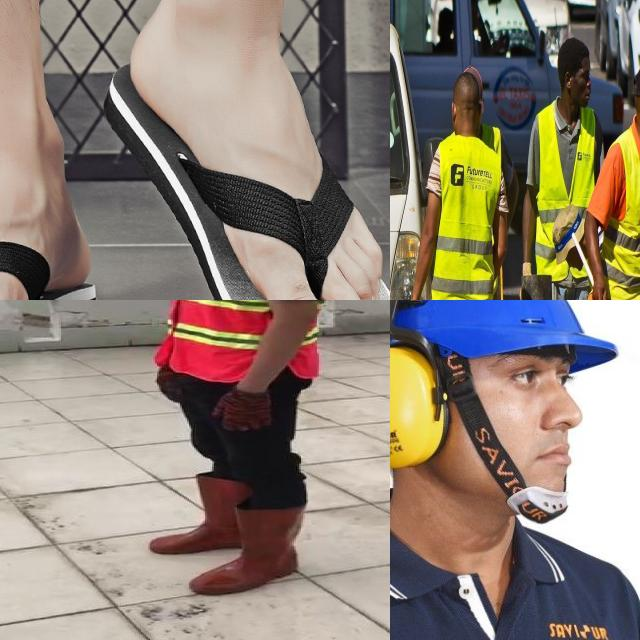Ear-protection: (390, 346, 450, 470)
Sandals: (154, 63, 390, 300), (0, 186, 99, 300)
boots: (192, 508, 304, 595), (146, 475, 253, 552)
face_nomask: (565, 63, 597, 107)
hand_noglove: (590, 273, 611, 300)
head_helmet: (390, 300, 621, 375)
head_nohelmet: (449, 48, 483, 104), (547, 39, 594, 71)
person: (390, 300, 640, 640), (137, 300, 343, 600), (529, 38, 601, 300), (422, 68, 495, 300), (601, 70, 640, 300)
vest: (157, 300, 331, 382), (432, 135, 501, 300), (534, 104, 592, 280), (610, 141, 640, 300)
